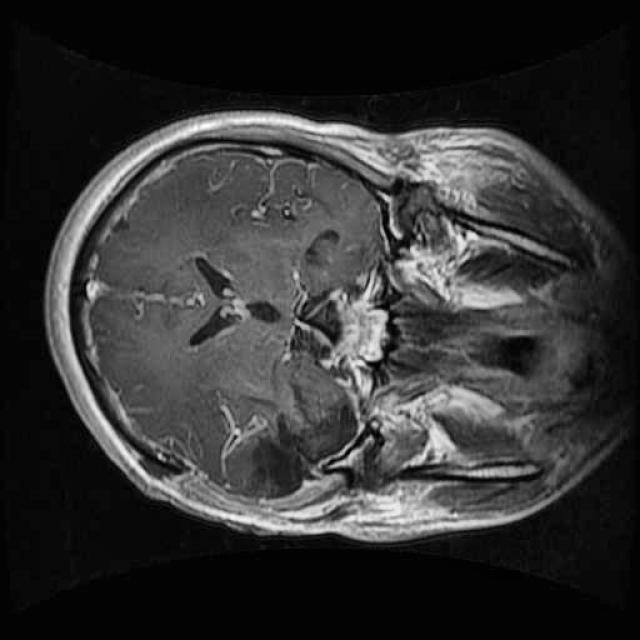Non-Tumor: (210, 384, 368, 519)
